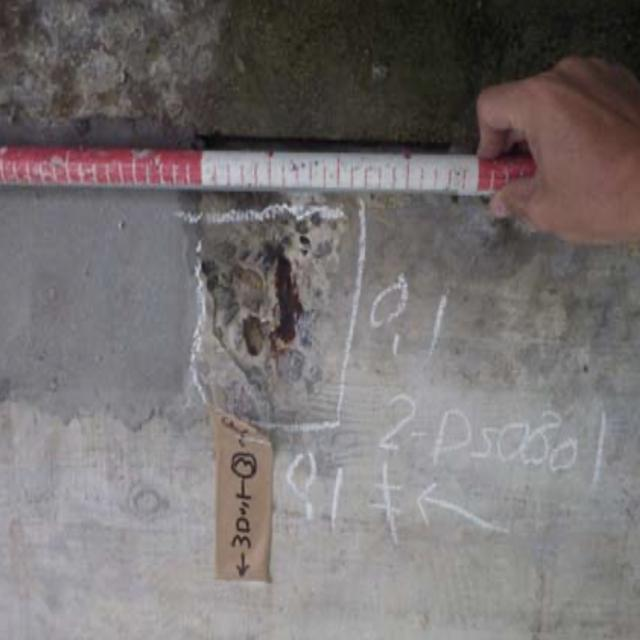spalling: (153, 197, 370, 426)
